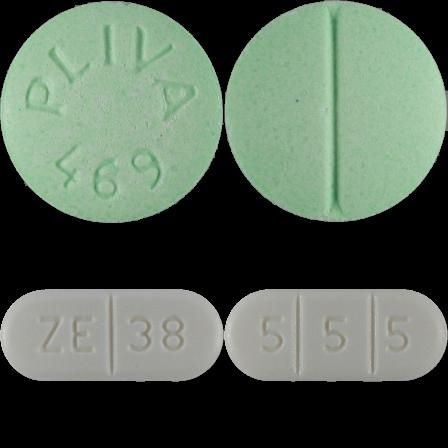55700-413: (0, 0, 224, 224)
